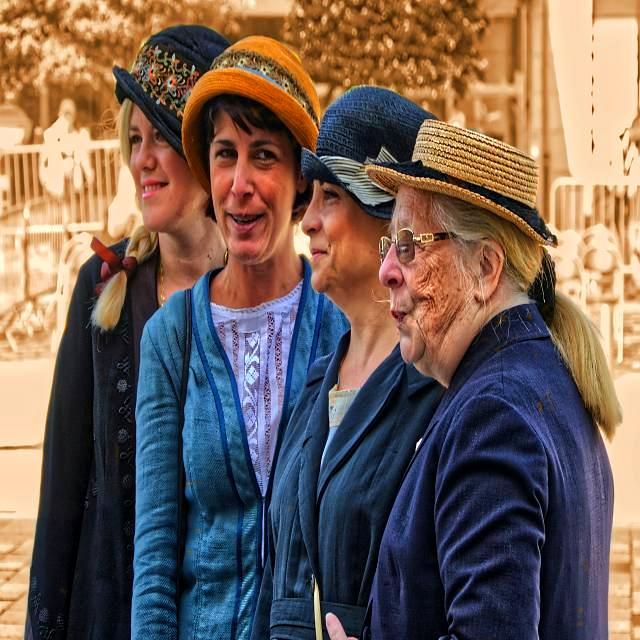no_hard_hat: (365, 120, 557, 247), (182, 36, 320, 190), (301, 86, 436, 219), (113, 25, 231, 159)
person: (360, 120, 622, 640), (131, 36, 349, 640), (25, 25, 230, 640), (257, 87, 441, 640)
